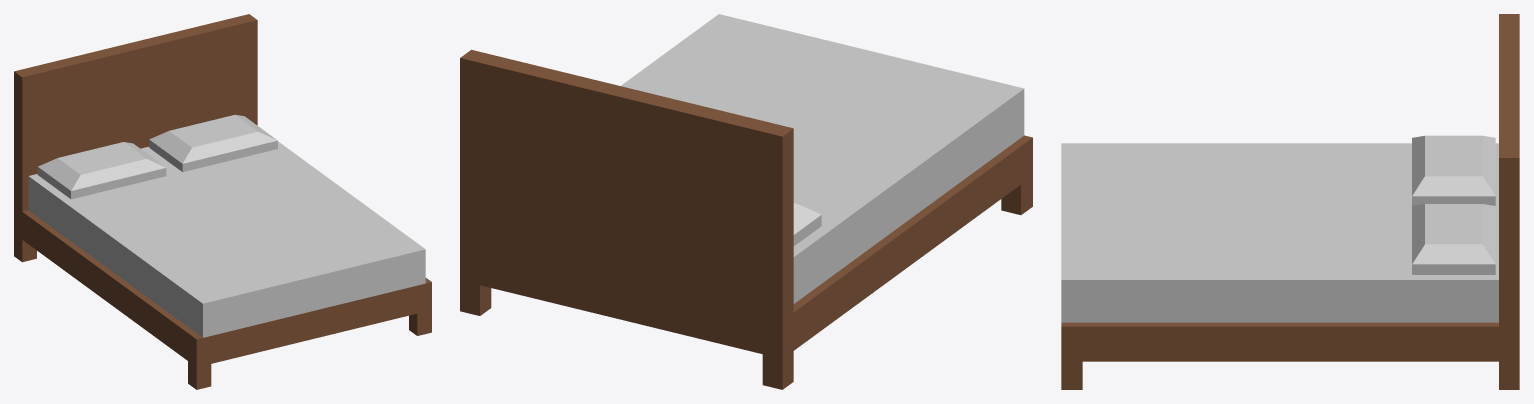
File: Bed5.fbx
The picture shows the model from 3 angles, left to right: view 1: azimuth 30°, elevation 25°; view 2: azimuth 150°, elevation 25°; view 3: azimuth 270°, elevation 25°; orthographic projection. The views are drawn at different scales.
Visible parts, largest first — view 1: Cube; view 2: Cube; view 3: Cube.
Part boxes in pixels (x1,y1,x2,y2): Cube: [14, 14, 431, 389]; Cube: [460, 14, 1032, 389]; Cube: [1061, 14, 1519, 389].
Bounding box in the file's own units: 2.4 × 1.8 × 3.23.
